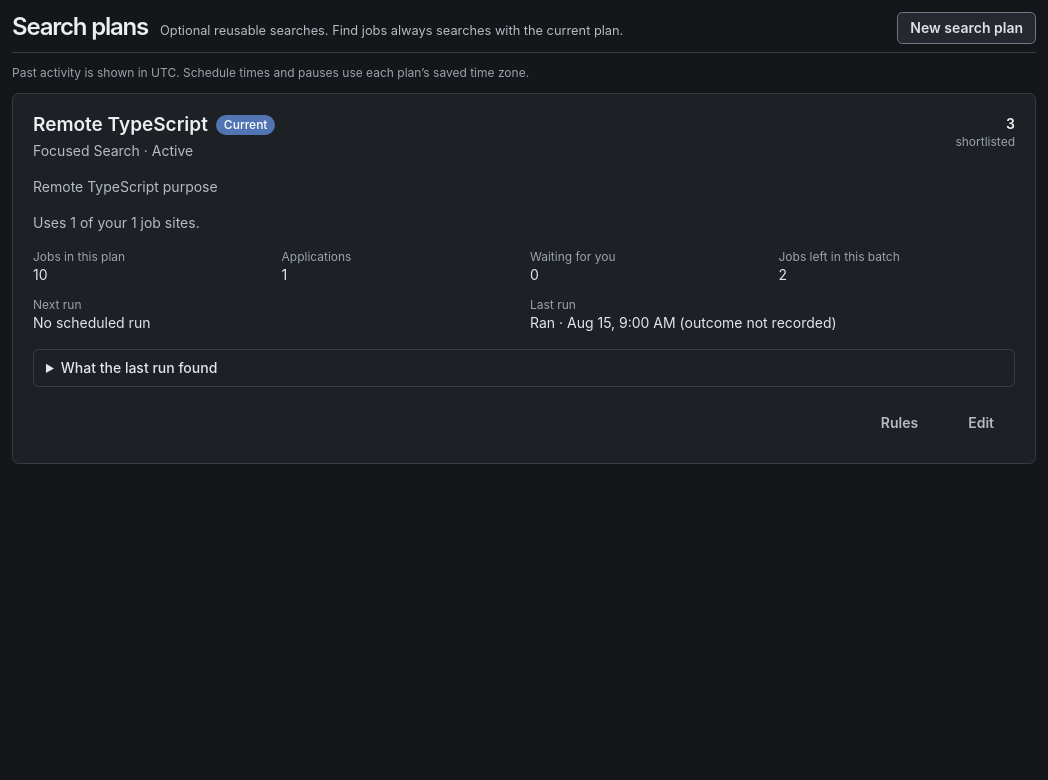
Test: CampaignsScreen › renders the latest persisted digest counts and failed sources
Click the heading "What the last run found".
click(139, 367)  # box [61, 359, 217, 376]
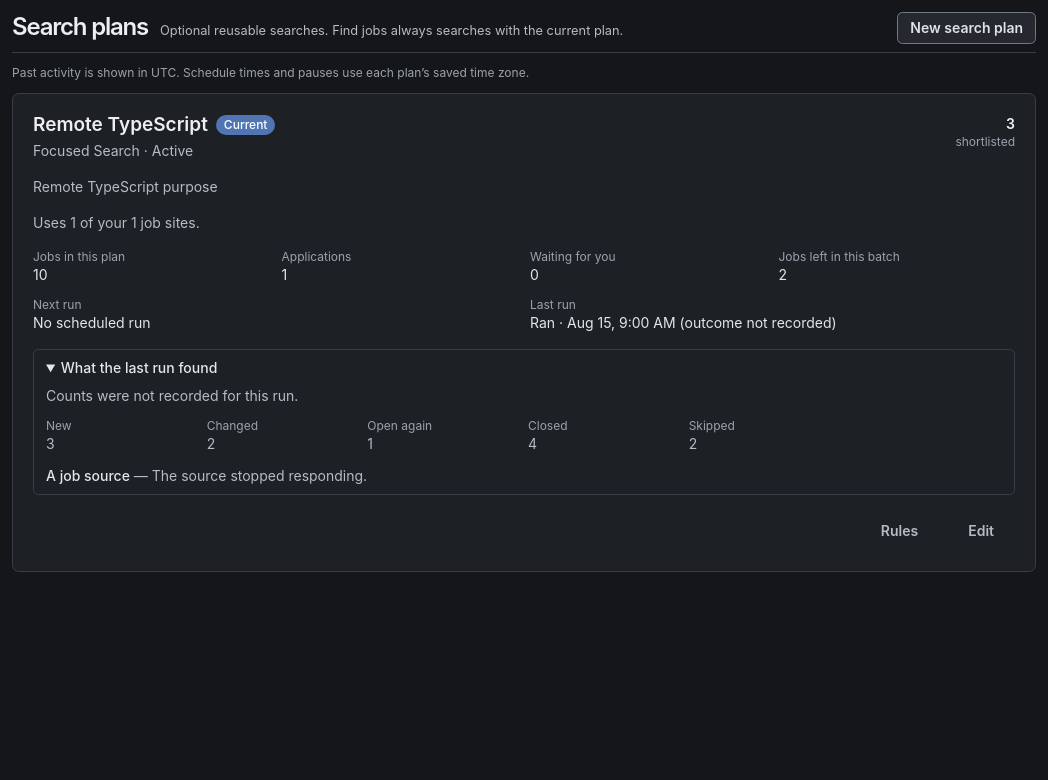
Expected: the text "3" below "Changed" is shown, [46, 435, 55, 452]
Expected: the text "4" is shown, [528, 435, 537, 452]
Expected: the list item "A job source — The source stopped responding." is shown, [46, 467, 367, 484]
